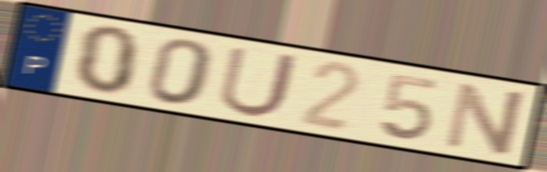0: (69, 22, 145, 97), (145, 36, 217, 108)
2: (296, 60, 366, 134)
5: (377, 71, 443, 143)
N: (439, 79, 529, 159)
U: (214, 43, 303, 120)
